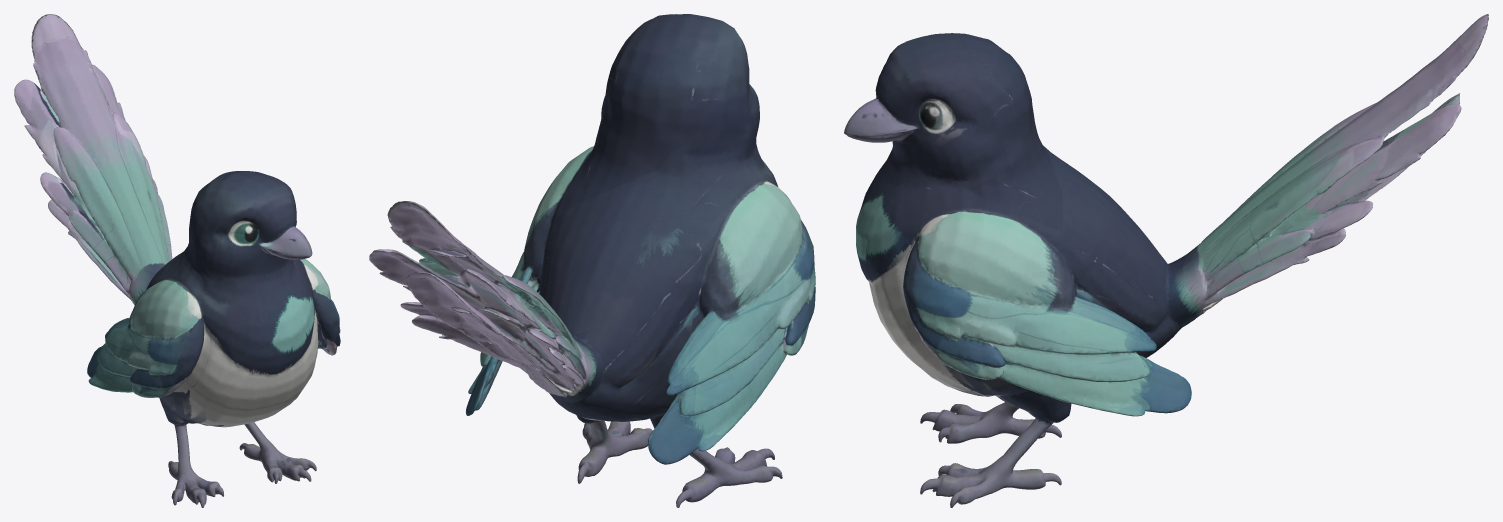
Rendered from Ggachi.obj.
The picture shows the model from 3 angles, left to right: view 1: azimuth 30°, elevation 25°; view 2: azimuth 150°, elevation 25°; view 3: azimuth 270°, elevation 25°; orthographic projection. The views are drawn at different scales.
Parts seen in each view (by area): view 1: surface_8; view 2: surface_8; view 3: surface_8.
Part boxes in pixels (x1,y1,x2,y2): surface_8: (14,14,340,507); surface_8: (369,14,815,507); surface_8: (844,14,1488,507).
Size of the model in its own units: 0.4744 by 0.7658 by 1.
1 material, 1 textured.
